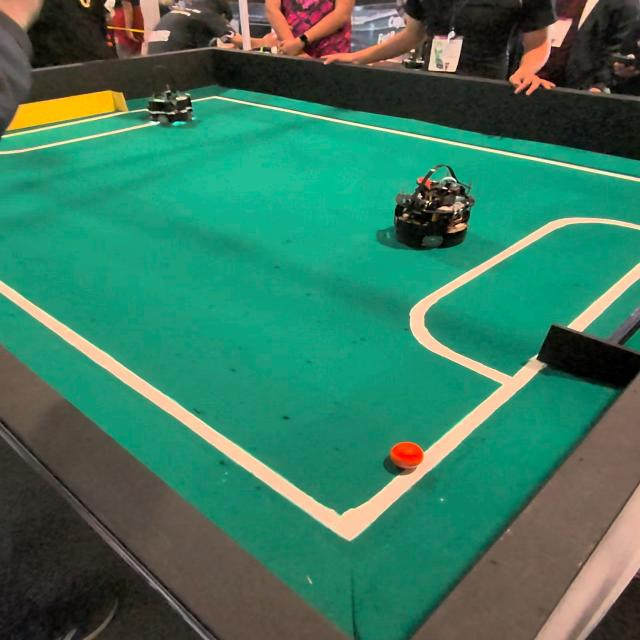Robot: (394, 165, 478, 253), (142, 56, 196, 132)
pelota: (388, 440, 424, 474)
